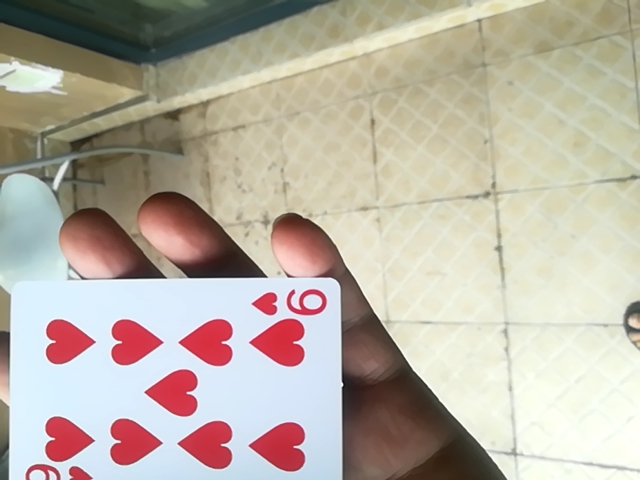hx 9: (5, 272, 348, 479)
